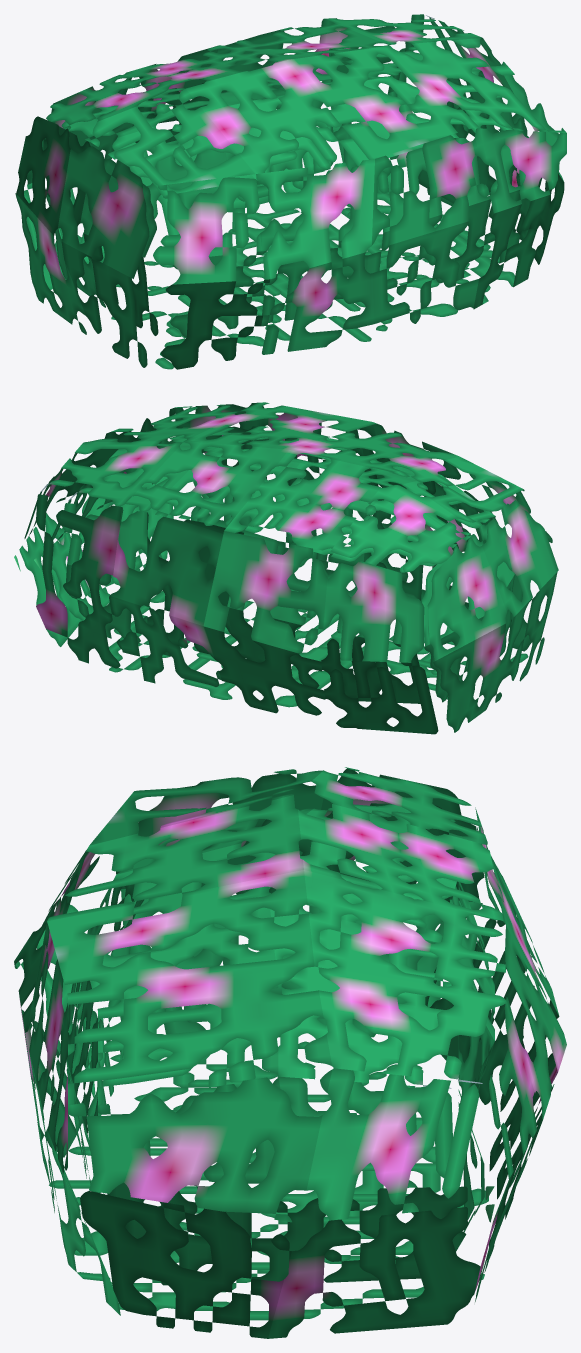
The model's file is AzaleaBushViolet.obj.
3 views of the same model, one above another, from view 1: azimuth 30°, elevation 25°; view 2: azimuth 150°, elevation 25°; view 3: azimuth 270°, elevation 25° (orthographic). The views are drawn at different scales.
Visible parts, largest first — view 1: OuterBush, InnerBush; view 2: OuterBush, InnerBush; view 3: OuterBush, InnerBush.
Boxes of the visible parts, x1,y1,x2,y2 form: OuterBush: [15, 14, 566, 369]; InnerBush: [43, 41, 530, 337]; OuterBush: [14, 402, 558, 734]; InnerBush: [34, 426, 514, 703]; OuterBush: [14, 767, 566, 1338]; InnerBush: [66, 803, 494, 1285].
Size of the model in its own units: 2.83 by 1.22 by 1.92.
Materials: 2 (2 with a texture image).
